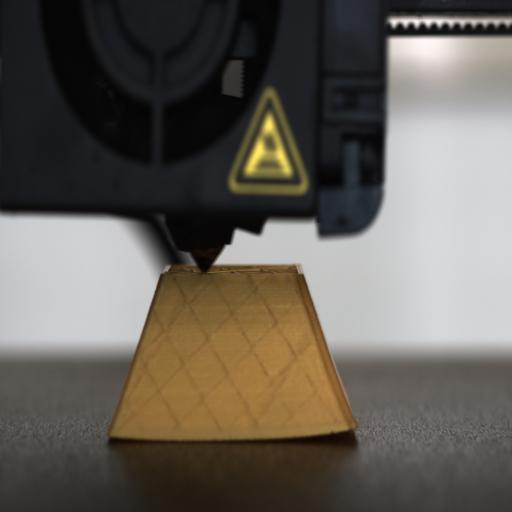warp: (309, 399, 363, 447)
